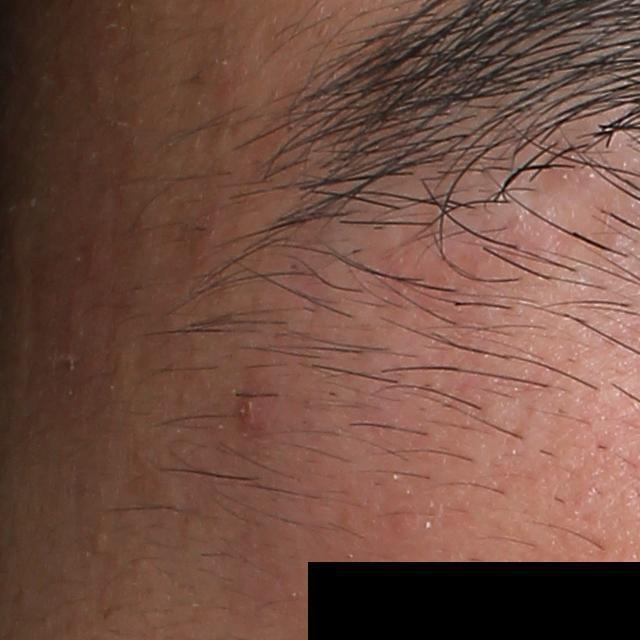papule: (229, 392, 266, 437)
